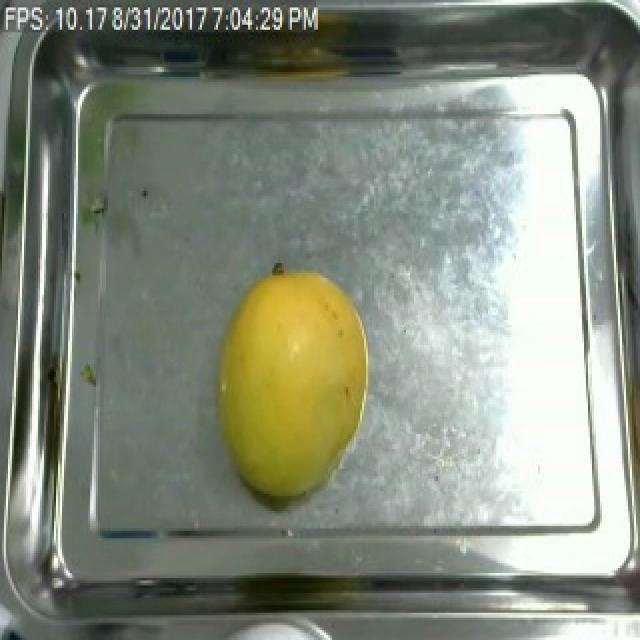fruit: (202, 260, 380, 511)
